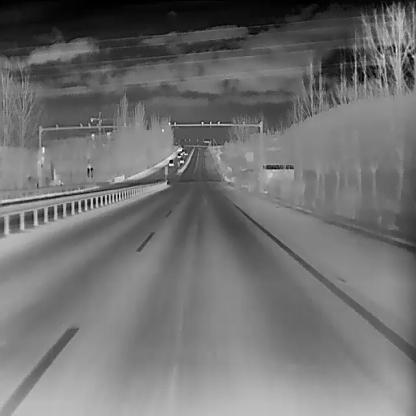car: (168, 158, 173, 166), (180, 156, 184, 163), (176, 152, 180, 158), (184, 151, 188, 156), (179, 151, 182, 156), (181, 149, 184, 154)
